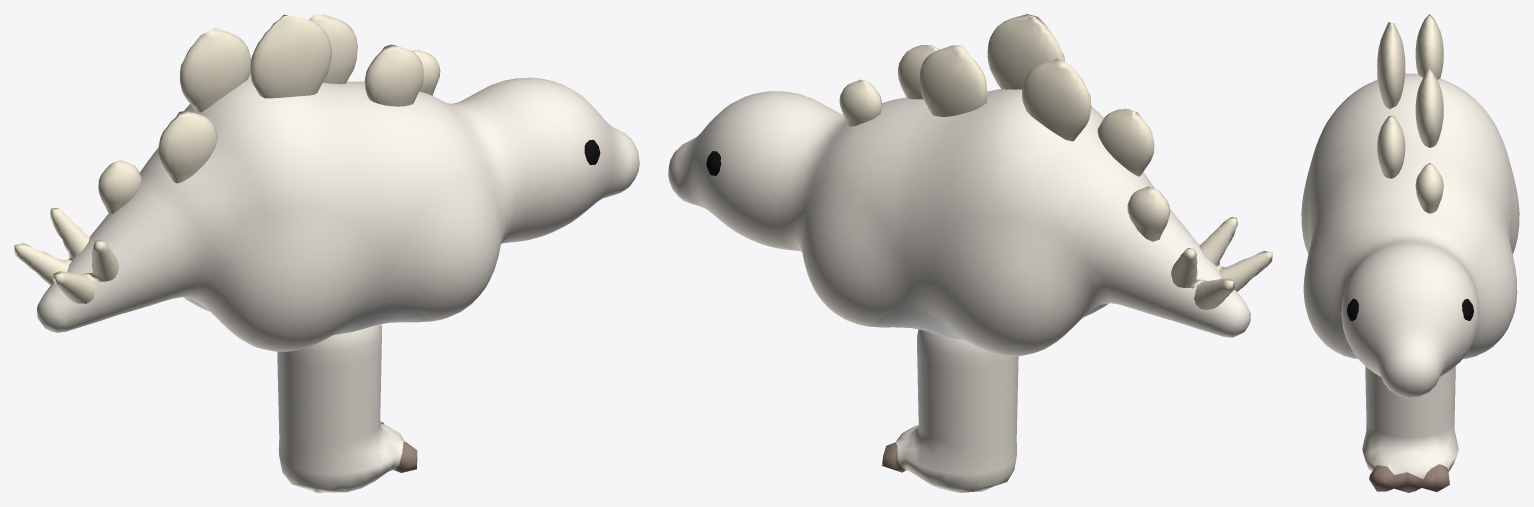
File: stegosaurus_baby.glb
The picture shows the model from 3 angles, left to right: view 1: azimuth 30°, elevation 25°; view 2: azimuth 150°, elevation 25°; view 3: azimuth 270°, elevation 25°; orthographic projection. The views are drawn at different scales.
Visible parts, largest first — view 1: body, horn, leg; view 2: body, horn, leg; view 3: body, leg, horn, eye.
Boxes of the visible parts, x1,y1,x2,y2 form: body: (37, 74, 639, 351); horn: (14, 14, 440, 303); leg: (277, 324, 417, 492); body: (668, 89, 1250, 355); horn: (839, 14, 1272, 309); leg: (882, 329, 1018, 492); body: (1301, 73, 1519, 398); leg: (1362, 366, 1458, 492); horn: (1377, 14, 1443, 213); eye: (1347, 298, 1473, 320).
Bounding box in the file's own units: 3.14 × 2.41 × 1.14.
